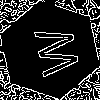W: (25, 25, 80, 80)
